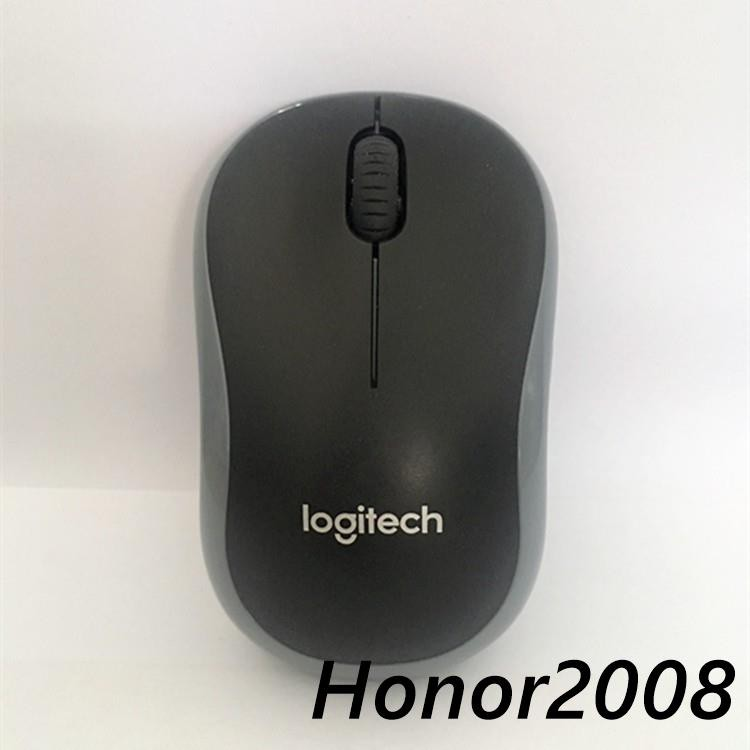logitech-mouse-m185: (194, 88, 562, 682)
